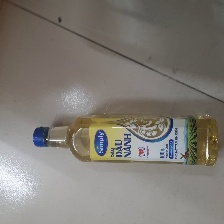Simply: (31, 110, 220, 169)
